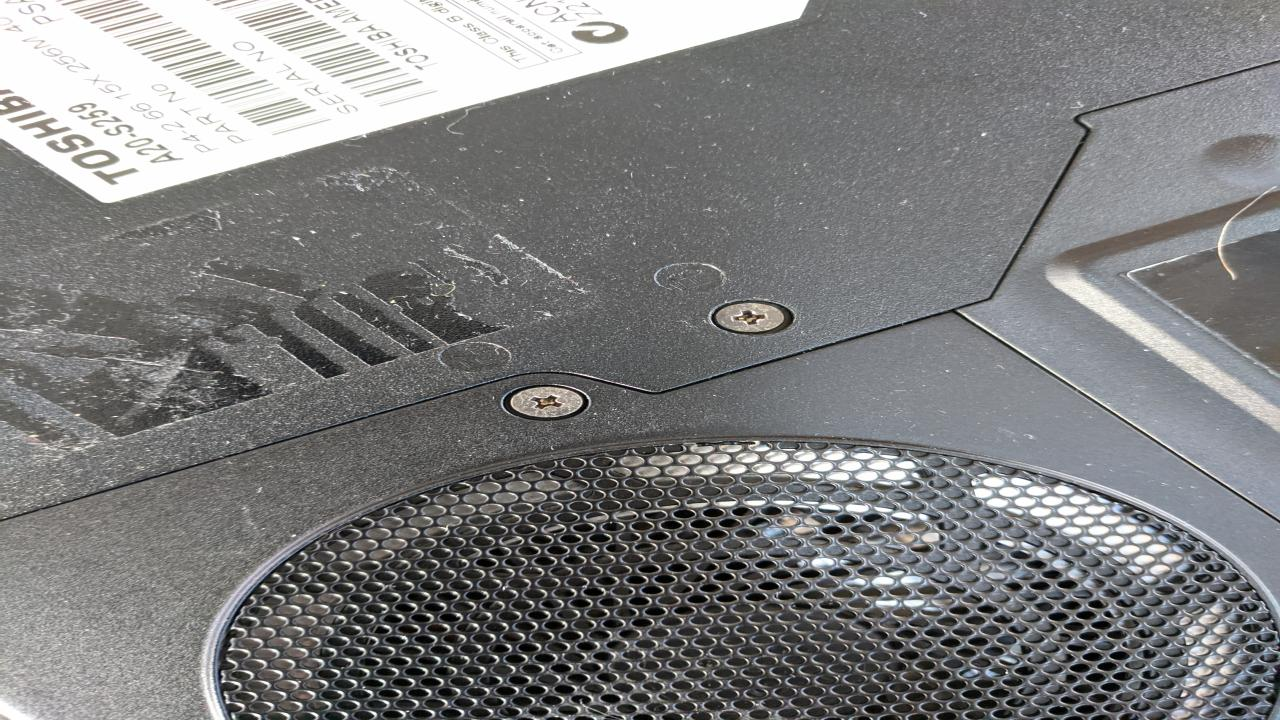CRS: (500, 382, 595, 420), (711, 301, 793, 335)
